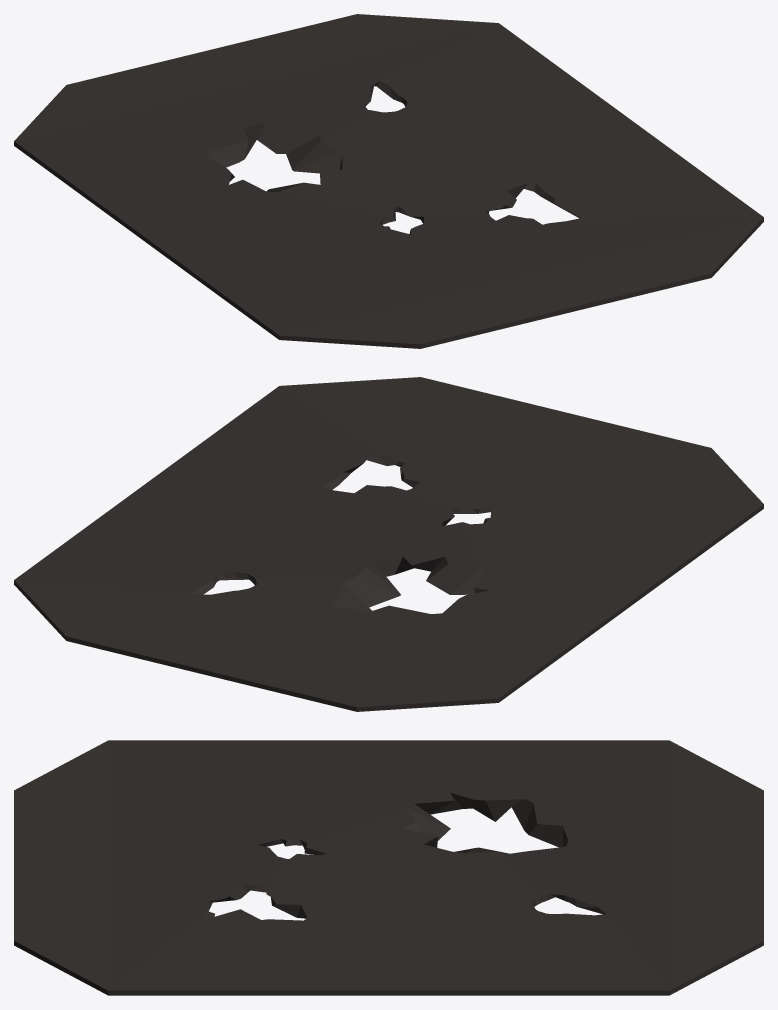
Rendered from Roof.fbx.
The picture shows the model from 3 angles, top to bottom: view 1: azimuth 30°, elevation 25°; view 2: azimuth 150°, elevation 25°; view 3: azimuth 270°, elevation 25°; orthographic projection. The views are drawn at different scales.
Parts seen in each view (by area): view 1: Roof; view 2: Roof; view 3: Roof.
Part boxes in pixels (x1,y1,x2,y2): Roof: (14,14,763,348); Roof: (14,377,763,711); Roof: (14,740,763,995).
Bounding box in the file's own units: 3166 × 105 × 4010.
